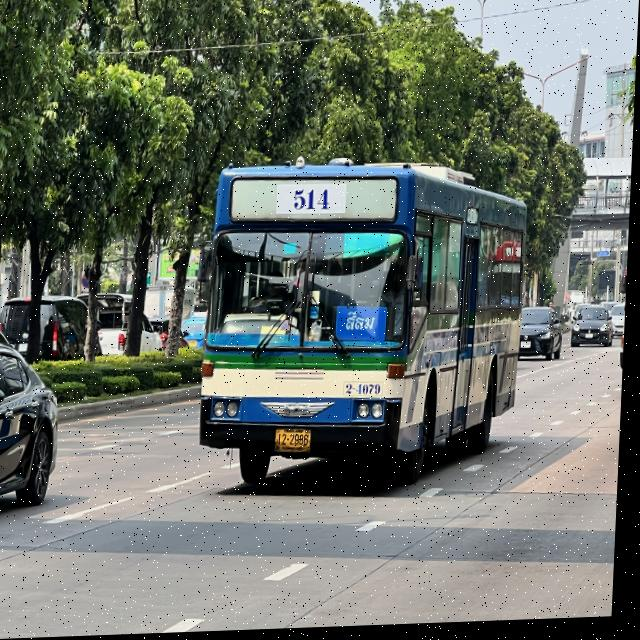BMTA-bus: (192, 145, 538, 501)
Bus Line Number: (278, 187, 349, 218)
Bus Side Number: (346, 384, 387, 402)
Destination Sign: (339, 307, 391, 346)
